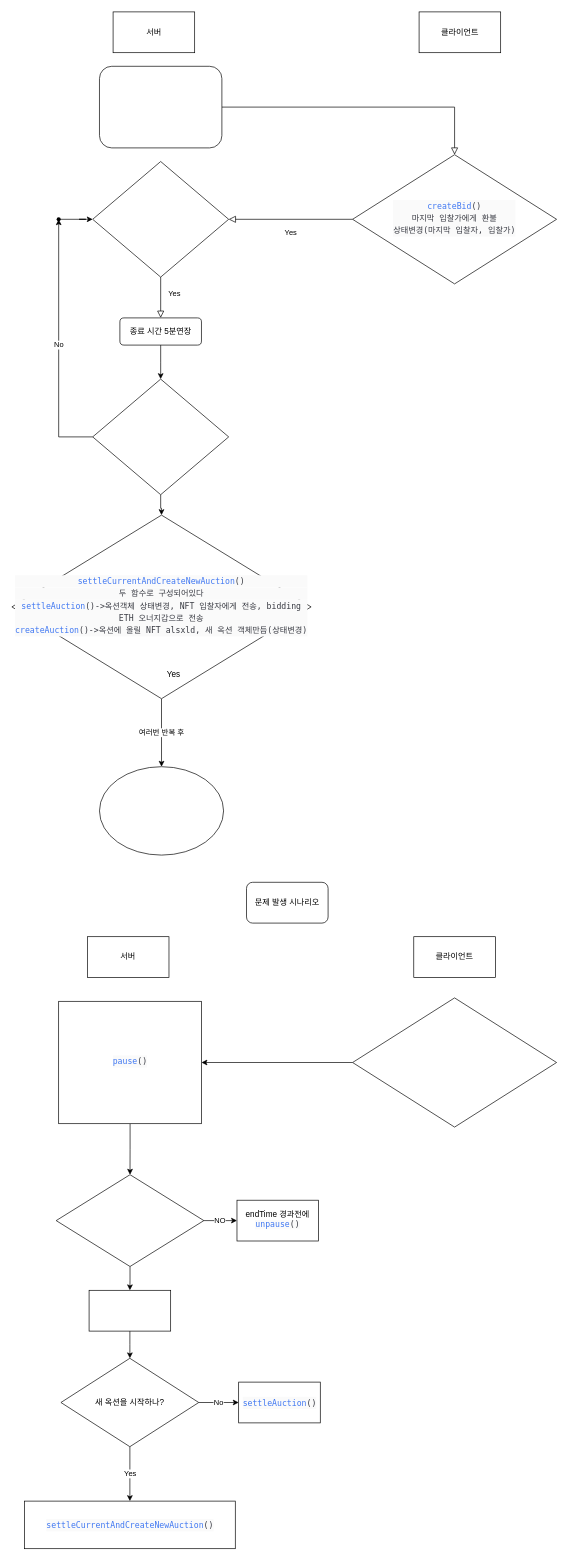
Image size: 568x1561. Some labels were removed from this diagram. The centre of each missing label's shape, as x and y in pixels:
"createBid () 를 계속 넣을때" belongs at point (454, 1062).
"settleAuction () 옥션 완전 종료" belongs at point (161, 810).
"unpause () 옥션시작" belongs at point (160, 107).
"일단 endTime이 끝나기를 기다린다" belongs at point (129, 1310).
"입찰 시간 종료" belongs at point (160, 436).
"입찰시간 5분전 새 입찰" belongs at point (160, 219).
"해당 회차를 종료시킬건가?" belongs at point (129, 1220).
